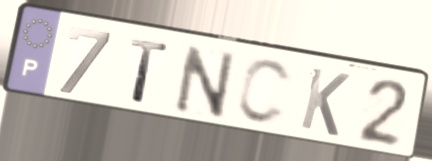2: (356, 77, 410, 149)
7: (57, 24, 115, 97)
C: (233, 56, 296, 128)
K: (297, 64, 353, 140)
N: (173, 42, 239, 121)
T: (127, 35, 171, 107)
